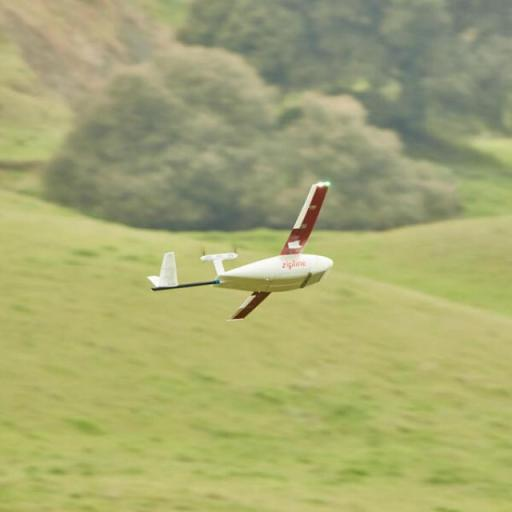uav: (145, 176, 343, 332)
